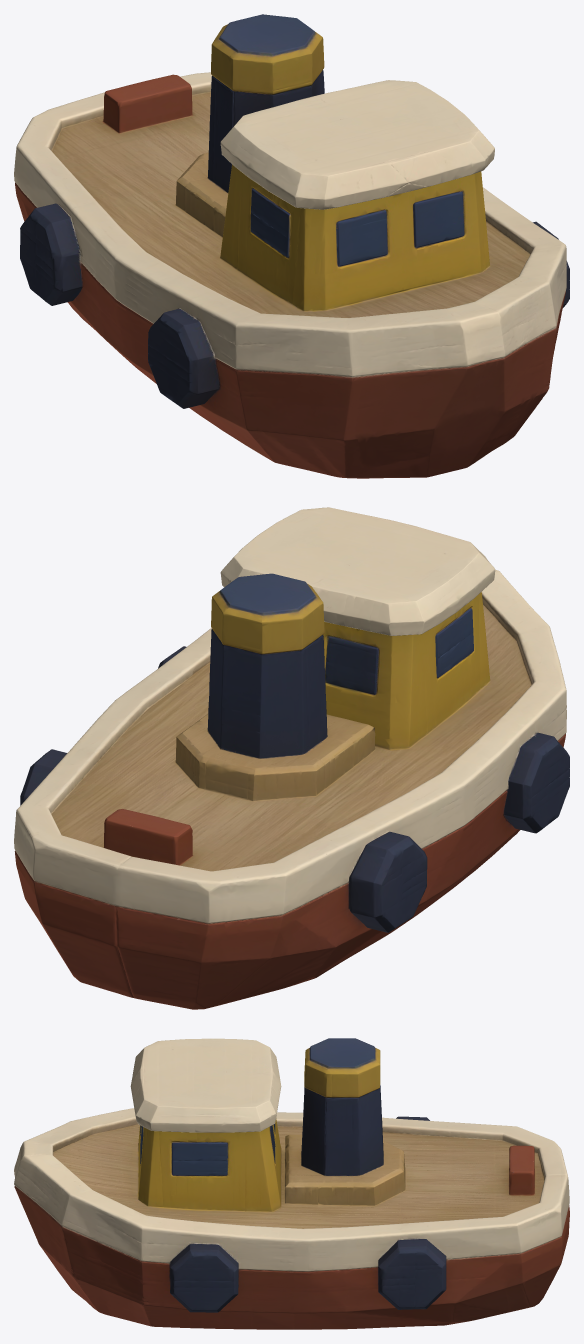
Rendered from boat.glb.
3 renders of one model, top to bottom at view 1: azimuth 30°, elevation 25°; view 2: azimuth 150°, elevation 25°; view 3: azimuth 270°, elevation 25°, orthographic. The views are drawn at different scales.
Visible parts, largest first — view 1: tripo_node_f712ddb4-0458-47a5-a4e2-67444187421e; view 2: tripo_node_f712ddb4-0458-47a5-a4e2-67444187421e; view 3: tripo_node_f712ddb4-0458-47a5-a4e2-67444187421e.
Part boxes in pixels (x1=…): tripo_node_f712ddb4-0458-47a5-a4e2-67444187421e: x1=14, y1=14, x2=569, y2=478; tripo_node_f712ddb4-0458-47a5-a4e2-67444187421e: x1=14, y1=507, x2=569, y2=1009; tripo_node_f712ddb4-0458-47a5-a4e2-67444187421e: x1=14, y1=1038, x2=569, y2=1329.
Size of the model in its own units: 0.5854 by 0.4489 by 0.9795.
1 material, 1 textured.
